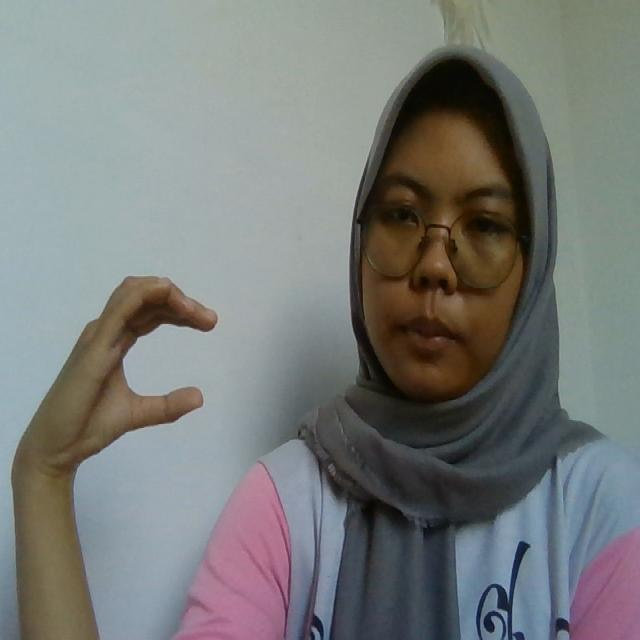C: (12, 272, 220, 468)
